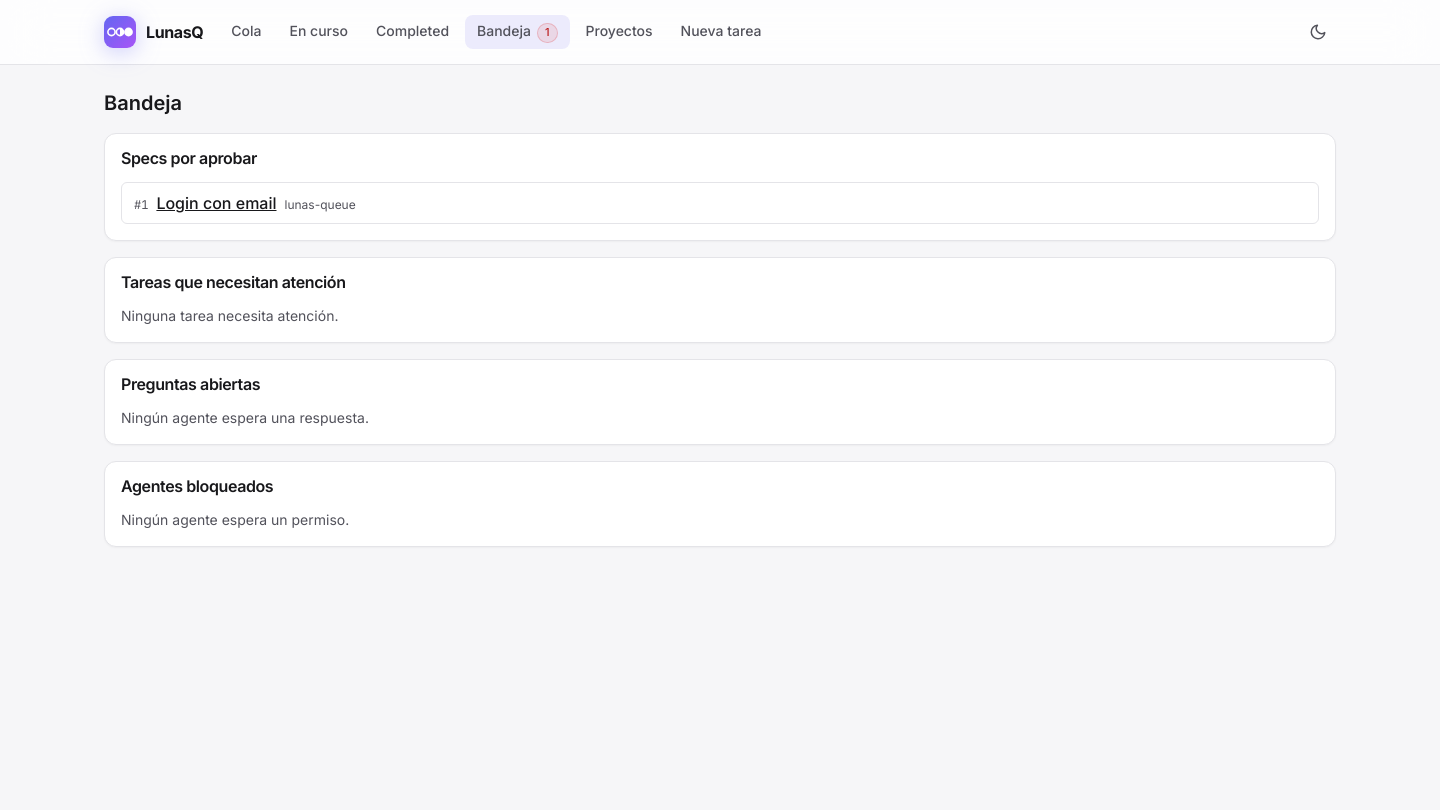
bandeja › si el humano aprueba en el detalle la spec sale de la bandeja
The width and height of the screenshot is (1440, 810).
Click the link "Login con email" at coordinates (216, 203), box [156,191,276,215]
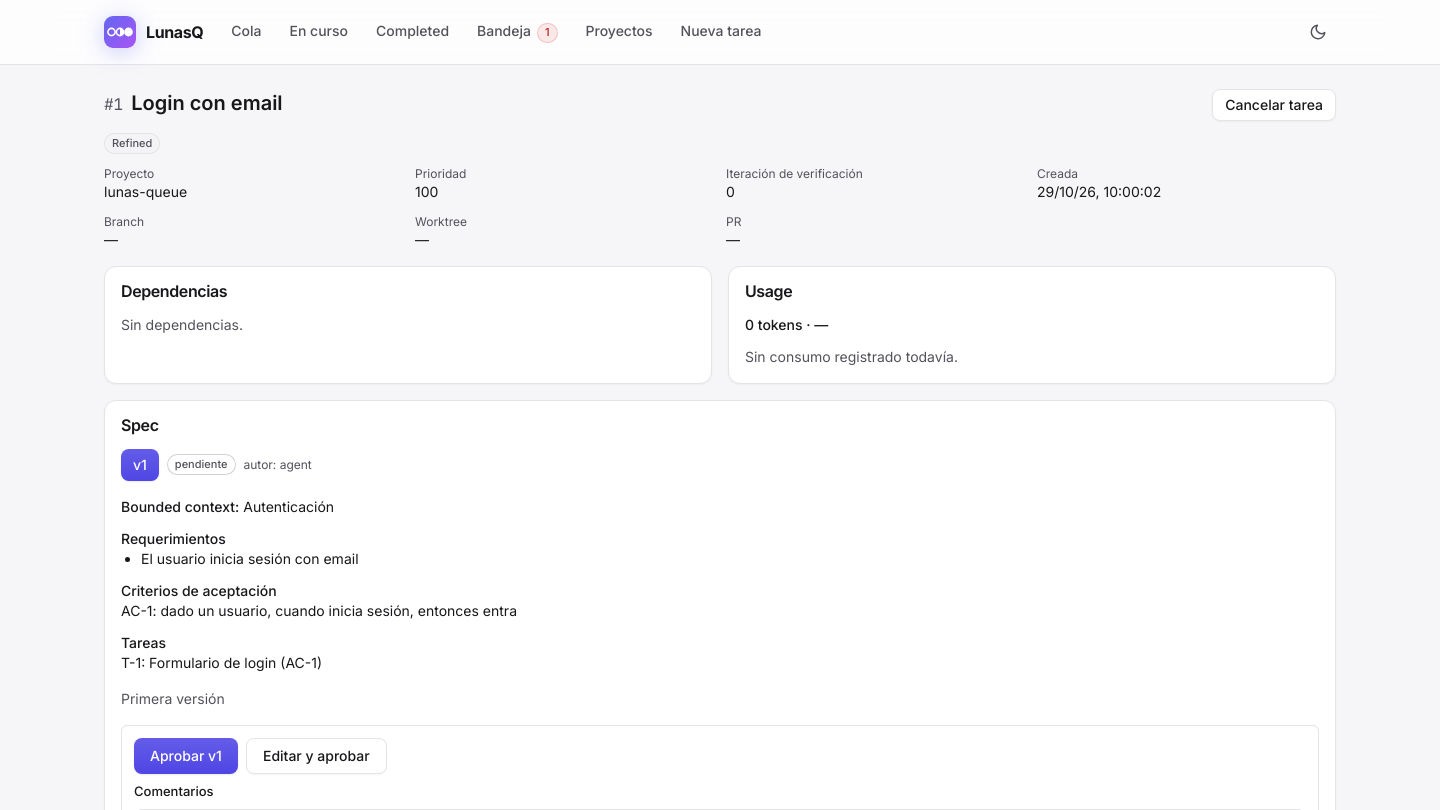
Click the button "Aprobar v1" at coordinates (186, 756), box [134,738,238,774]
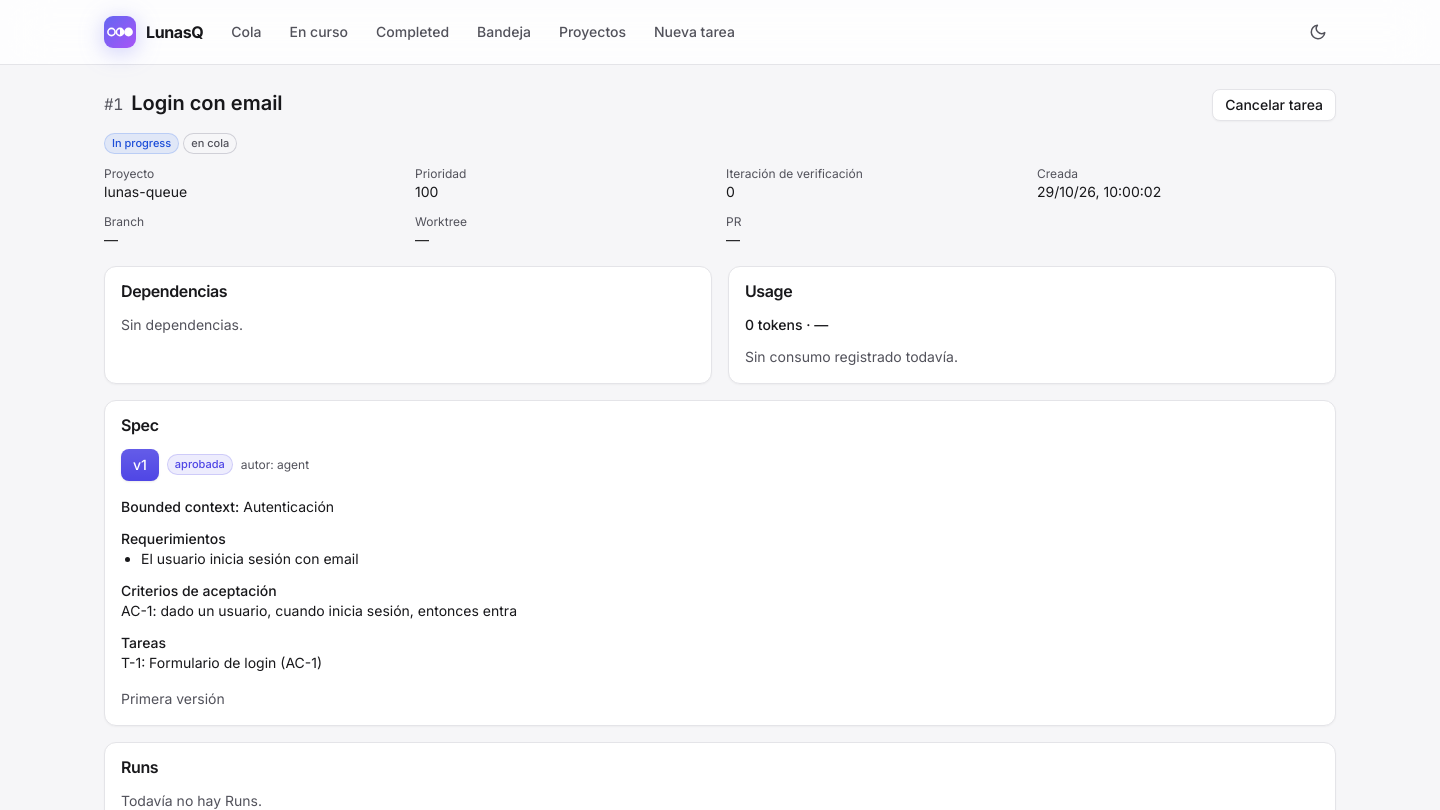
Click the link "Bandeja" at coordinates (504, 32), box [477,23,531,40]
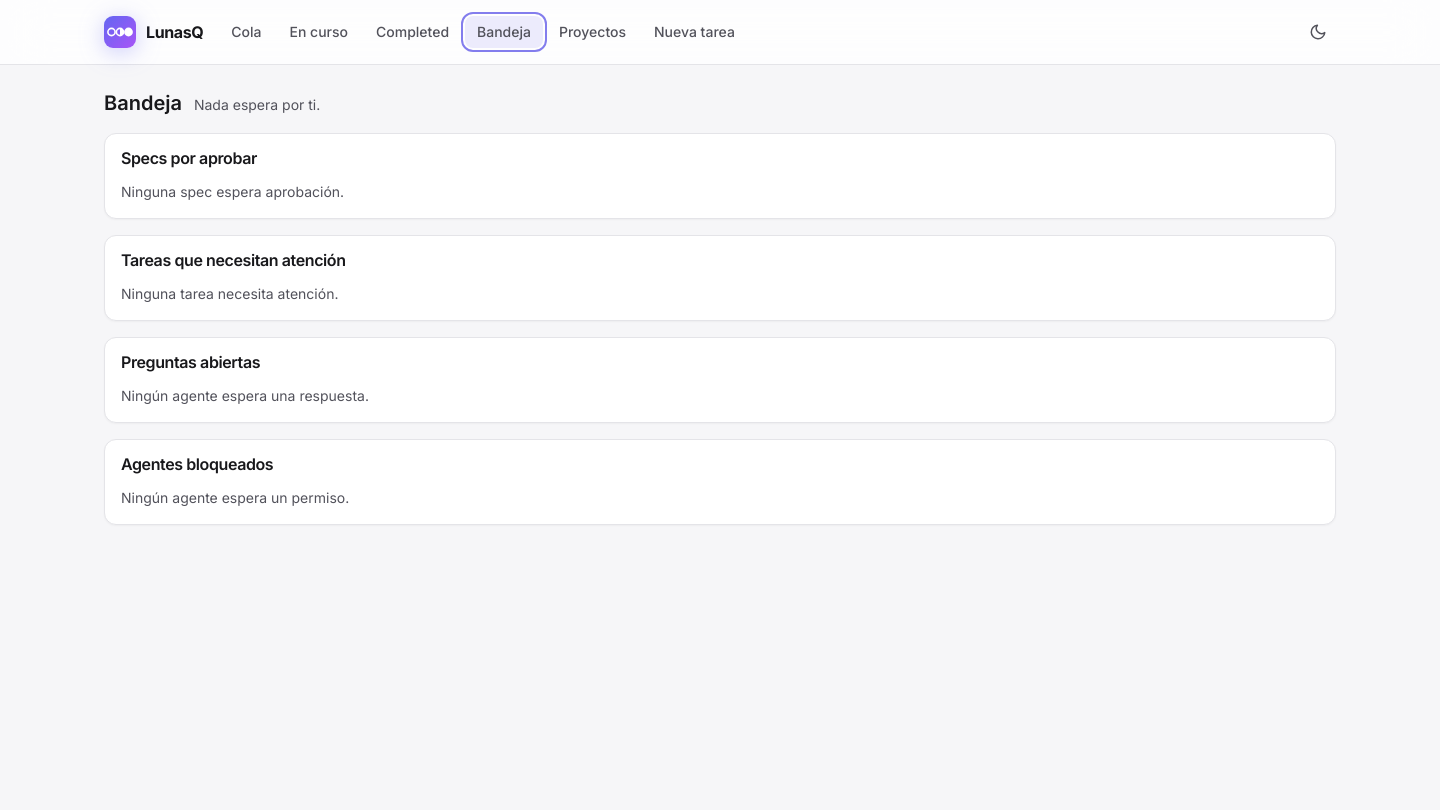
Now the text "Ninguna spec espera aprobación." is shown, box [121,183,344,200]
